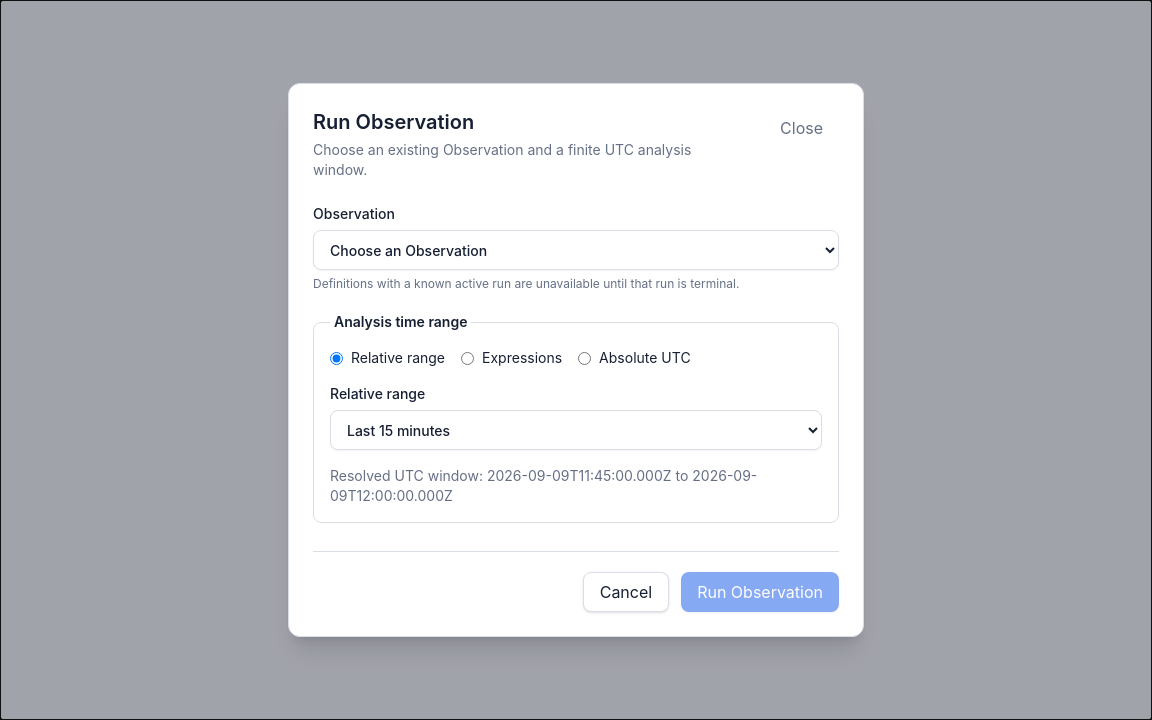
RunObservationDialog › submits one concrete selected preset window and retains inputs after a launch failure
Select "Never run first" in the dropdown named "Observation to run" at coordinates (576, 250), box [313, 230, 839, 270]
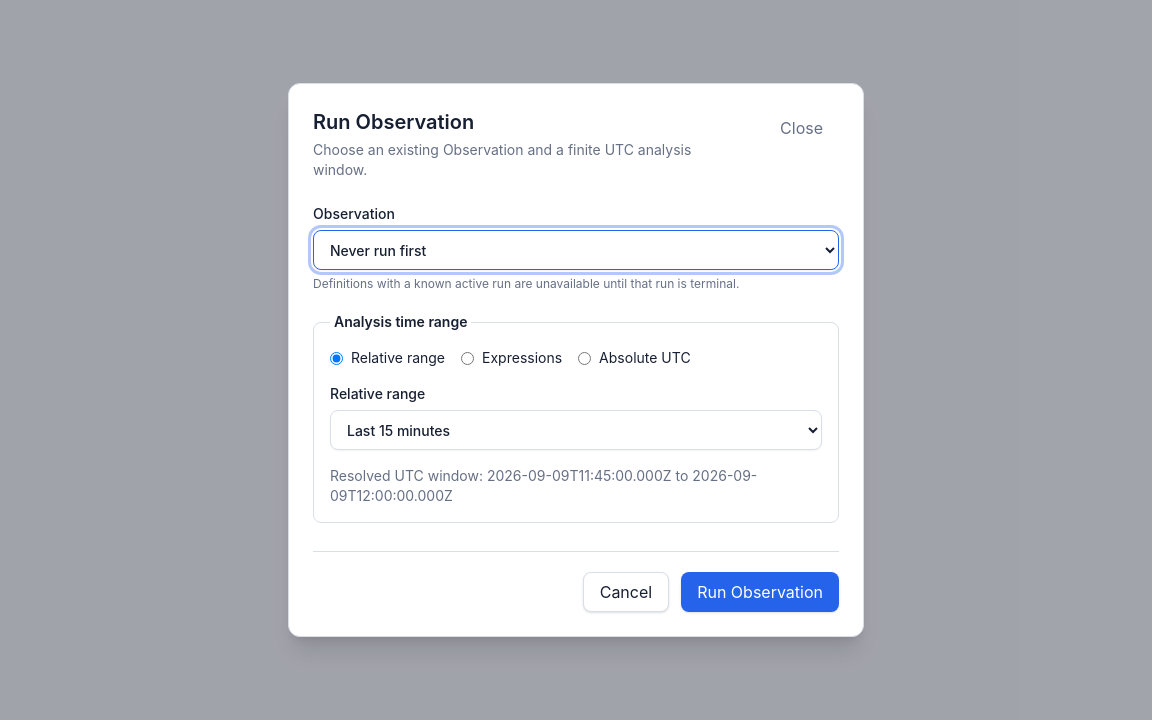
Select "Last 1 hour" in the dropdown named "Relative analysis range" at coordinates (576, 430), box [330, 410, 822, 450]
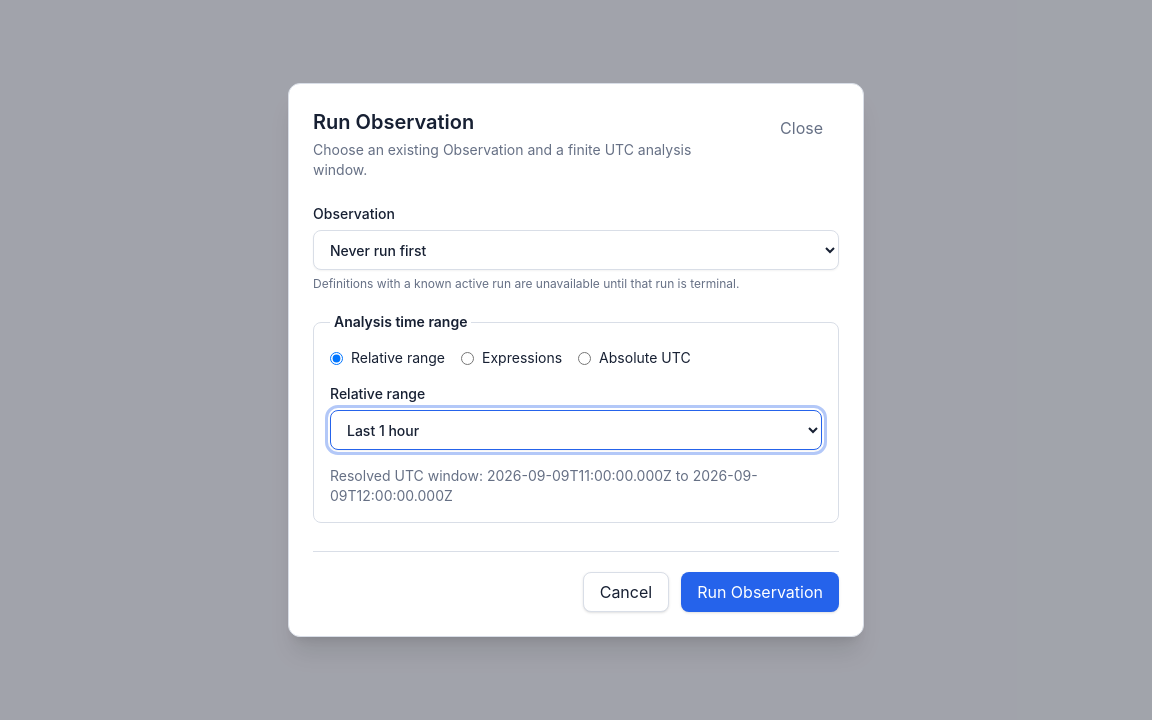
Click the button "Run Observation" at coordinates (760, 592), box [681, 572, 839, 612]
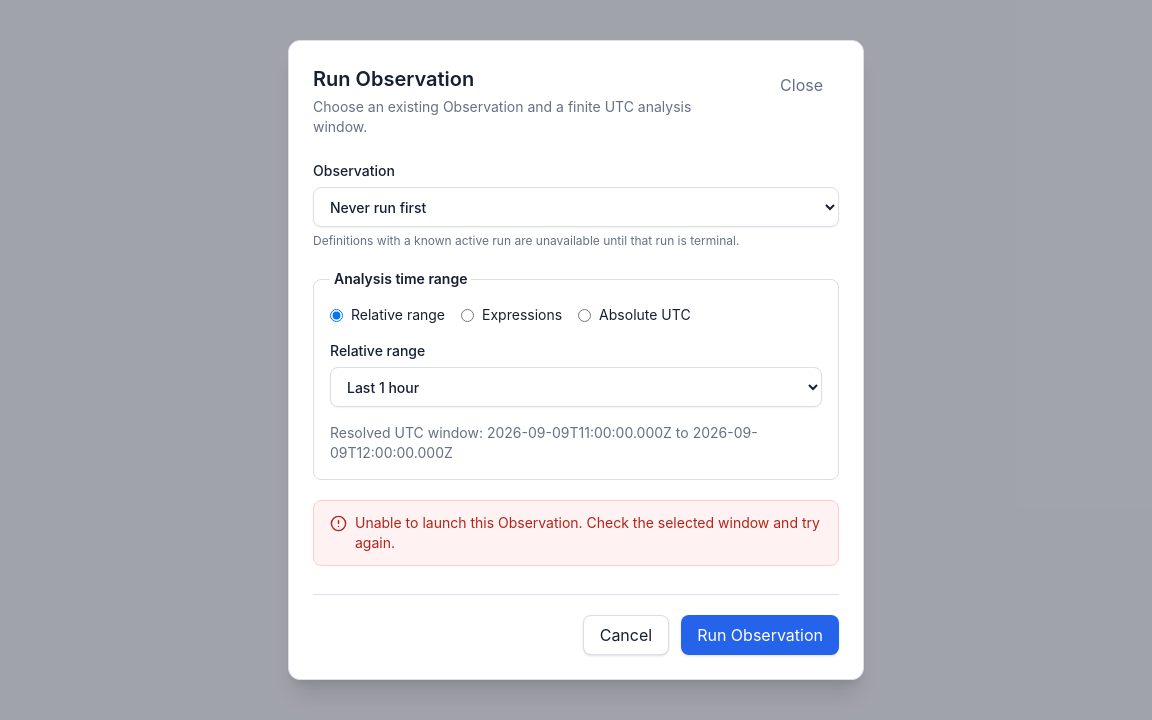
expect the message "Unable to launch this Observation. Check the selected window and try again." is shown: met, box [313, 500, 839, 566]
